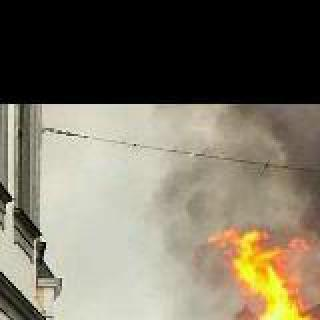fire: (150, 102, 320, 224), (212, 224, 320, 320)
